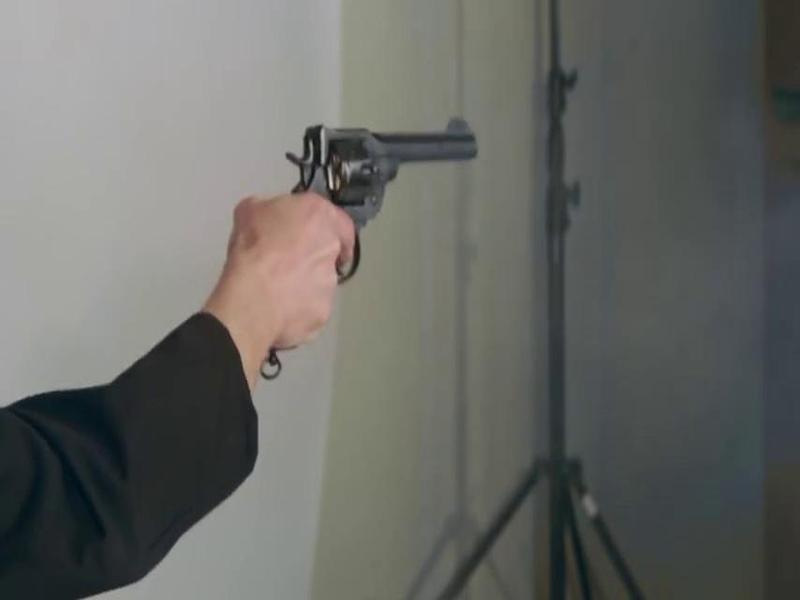Revolver: (251, 103, 505, 314)
